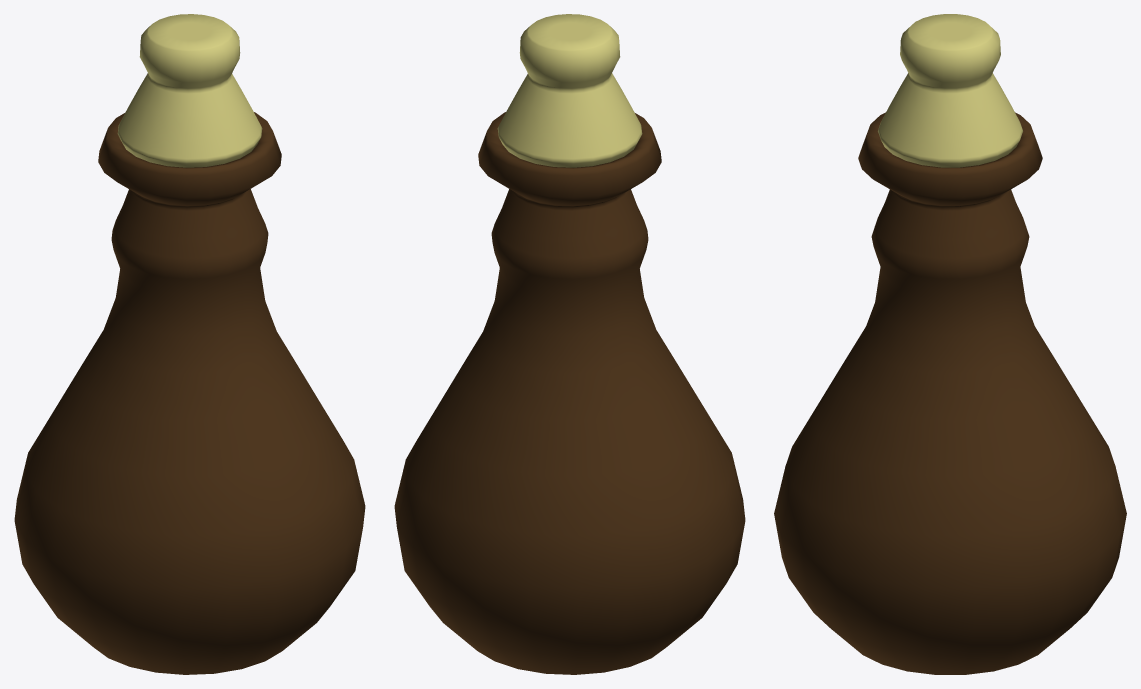
File: Elixir 1 unity copy.fbx
The picture shows the model from 3 angles, left to right: view 1: azimuth 30°, elevation 25°; view 2: azimuth 150°, elevation 25°; view 3: azimuth 270°, elevation 25°; orthographic projection.
Visible parts, largest first — view 1: Bottle, Sphere; view 2: Bottle, Sphere; view 3: Bottle, Sphere.
Part boxes in pixels (x1,y1,x2,y2): Bottle: [14, 112, 365, 674]; Sphere: [117, 14, 262, 167]; Bottle: [394, 112, 745, 674]; Sphere: [497, 14, 642, 167]; Bottle: [774, 112, 1126, 674]; Sphere: [878, 14, 1022, 167].
Size of the model in its own units: 8.65 by 16.46 by 8.74.
